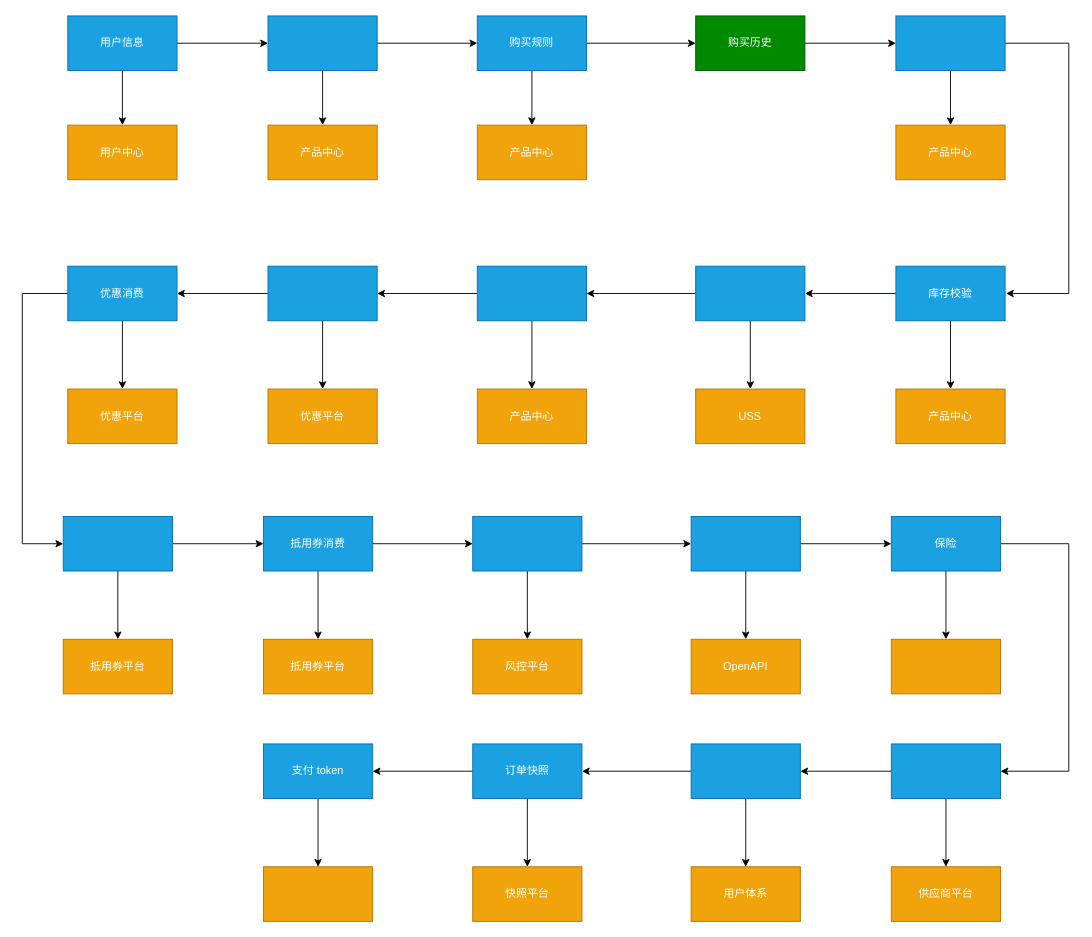
This 1092x937 diagram has some shape labels left out. Here are the shapes that lost their labels. From the top down, the box of each, then its label:
(267, 15, 377, 71): 产品信息
(895, 15, 1005, 71): 限购规则
(267, 265, 377, 321): 优惠信息
(476, 265, 586, 321): 库存使用
(695, 265, 805, 321): 新老客
(62, 516, 172, 571): 抵用券信息
(472, 516, 582, 571): 风控
(690, 516, 800, 571): 直连下单
(890, 638, 1001, 694): 保险平台
(690, 743, 800, 799): 游玩人保存
(890, 743, 1001, 799): 发票信息
(263, 866, 373, 921): 收银台
